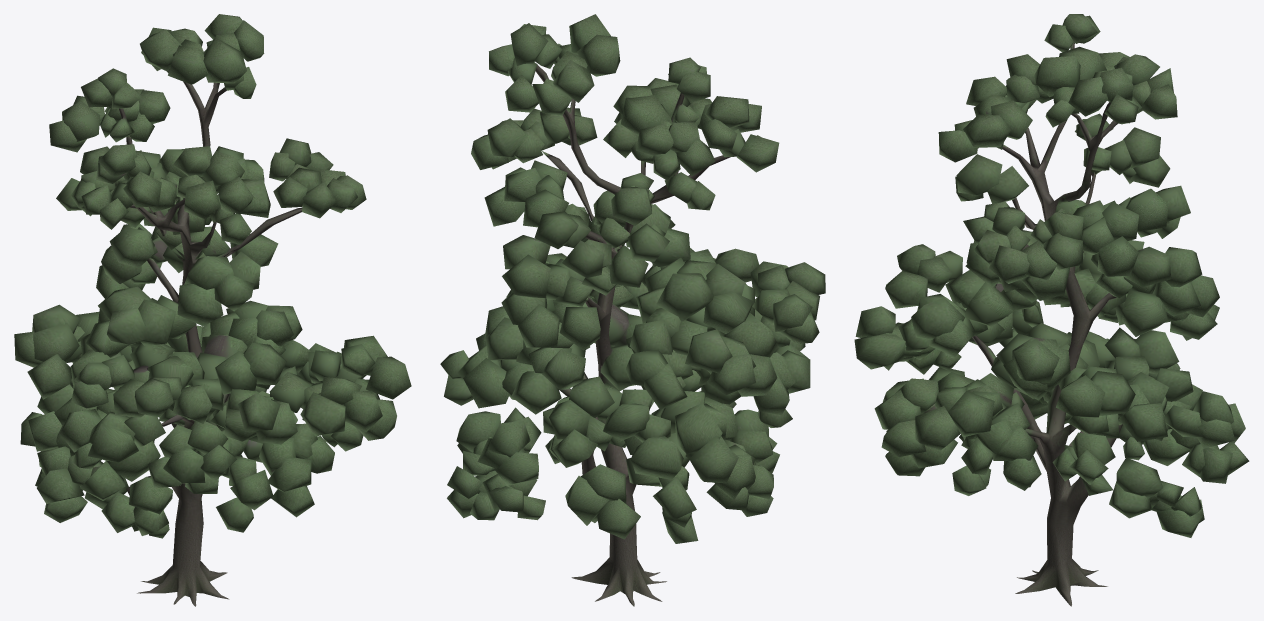
The model's file is oak.glb.
3 views of the same model, side by side, from view 1: azimuth 30°, elevation 25°; view 2: azimuth 150°, elevation 25°; view 3: azimuth 270°, elevation 25° (orthographic). The views are drawn at different scales.
Size of the model in its own units: 0.6016 by 1 by 0.6543.
1 material, 1 textured.
